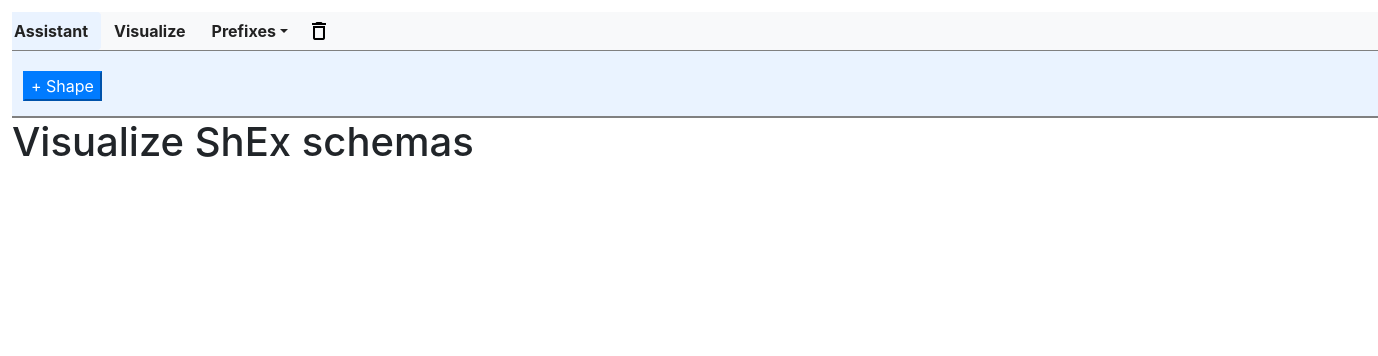
Create a Triple when + Triple btn is clicked
// Create a Shape
Click the button "+ Shape": (62,86) [23,71,102,101]
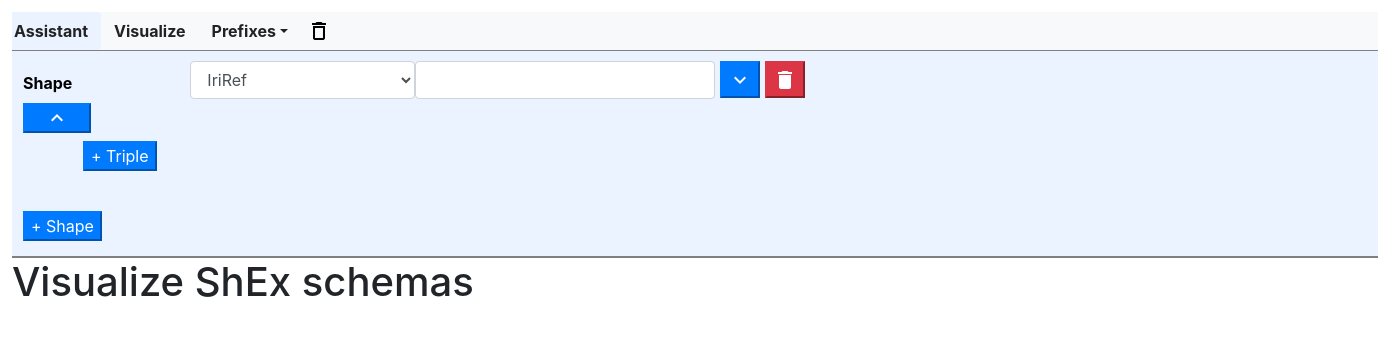
Click the button "+ Triple": (120,156) [83,141,157,171]
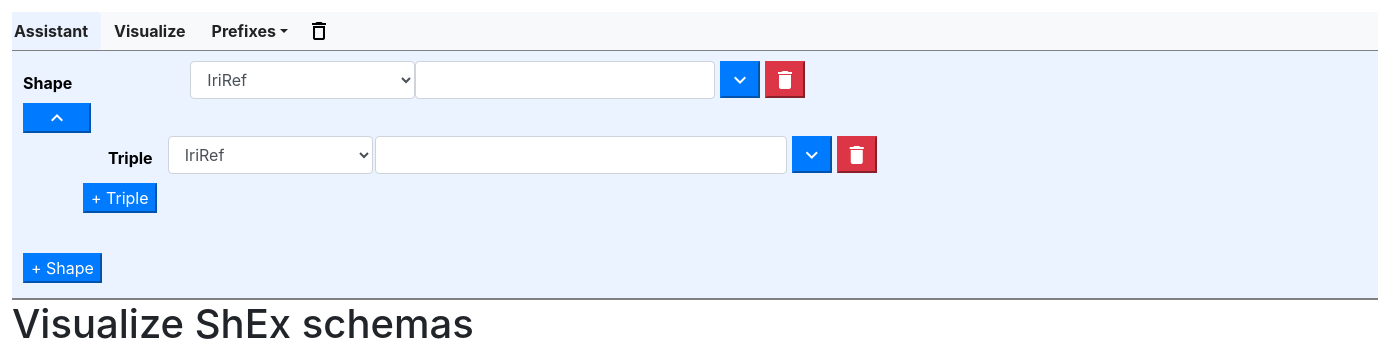
Expected: the text "Triple" is shown, [108,146,153,170]
